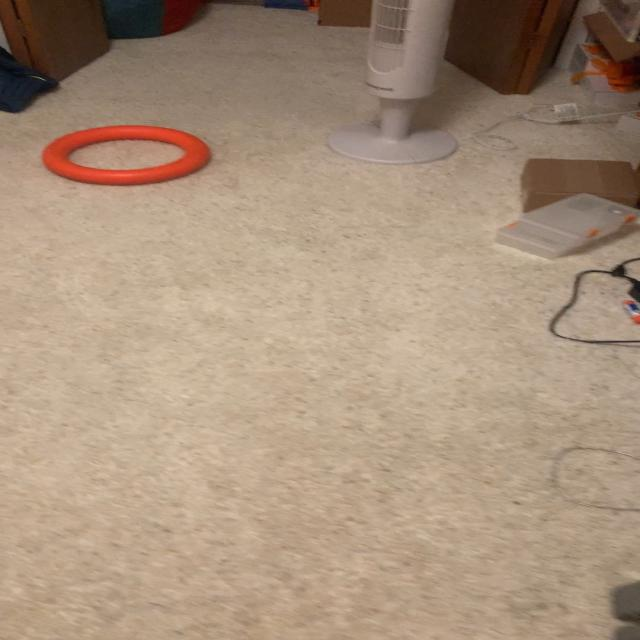notes: (44, 124, 209, 186)
